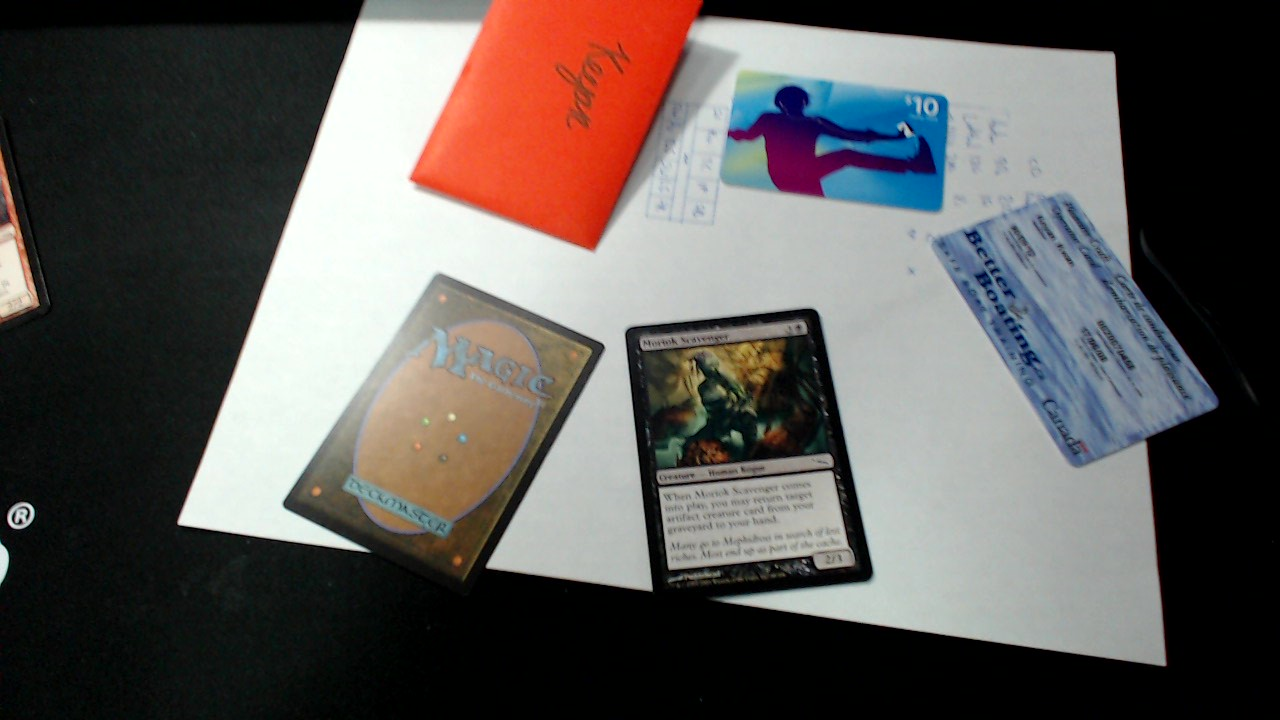MTG Card: (618, 304, 878, 606)
